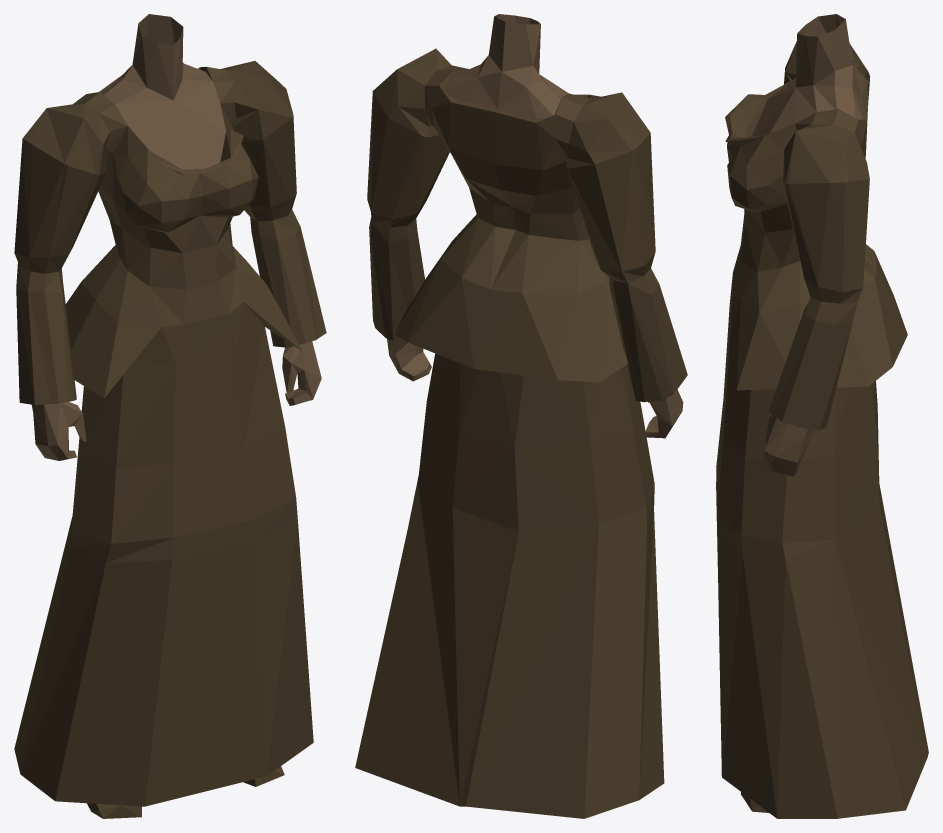
The model's file is ARMOR_BAUBABE_L.OBJ.
3 renders of one model, left to right at view 1: azimuth 30°, elevation 25°; view 2: azimuth 150°, elevation 25°; view 3: azimuth 270°, elevation 25°, orthographic. The views are drawn at different scales.
Visible parts, largest first — view 1: ARMOR_BAUBABE_L; view 2: ARMOR_BAUBABE_L; view 3: ARMOR_BAUBABE_L.
Part boxes in pixels (x1,y1,x2,y2): ARMOR_BAUBABE_L: (14, 14, 326, 818); ARMOR_BAUBABE_L: (355, 14, 687, 818); ARMOR_BAUBABE_L: (716, 14, 928, 818).
Size of the model in its own units: 0.6832 by 1.68 by 0.4292.
